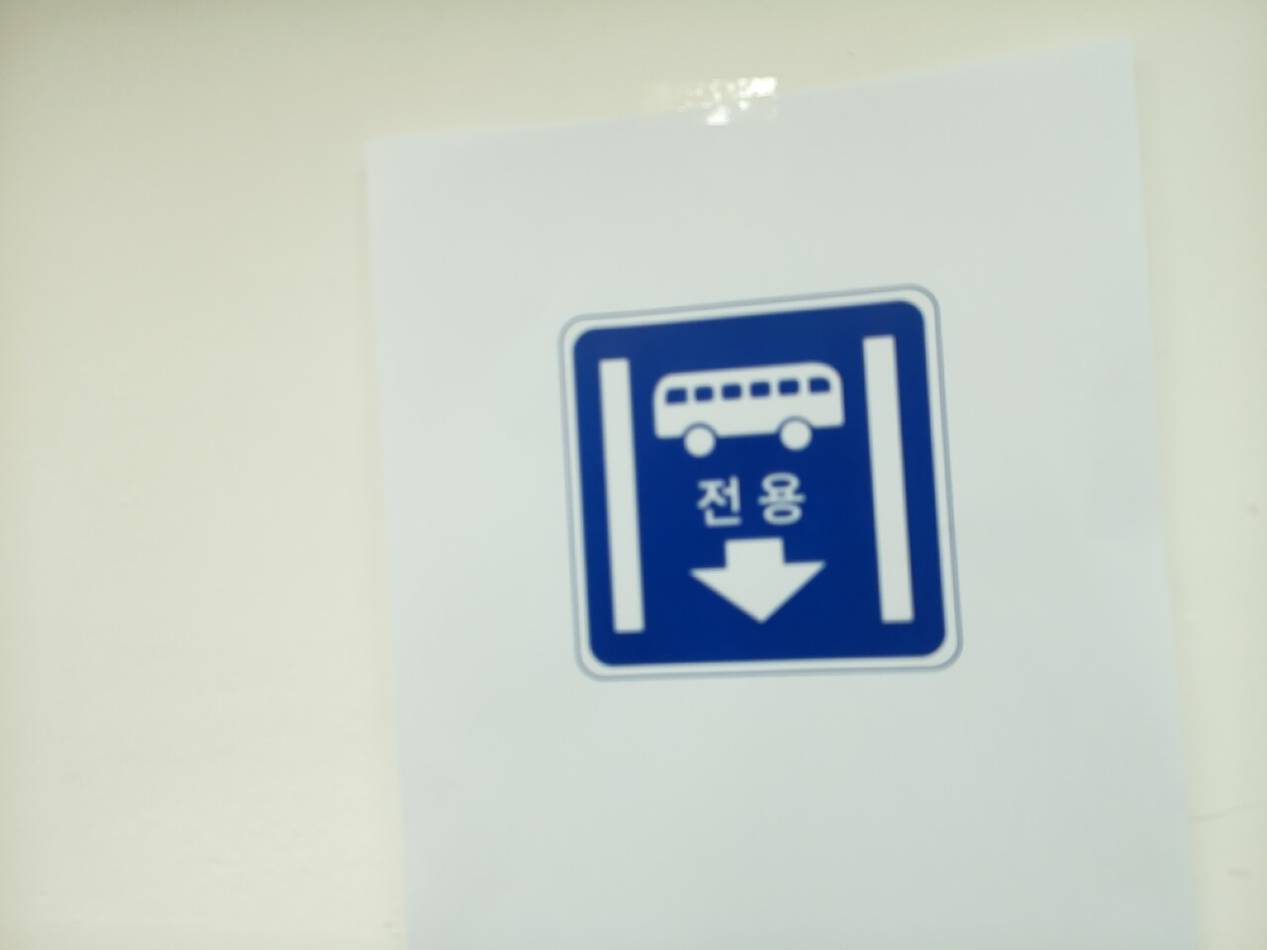bus_only_lane: (562, 290, 956, 678)
